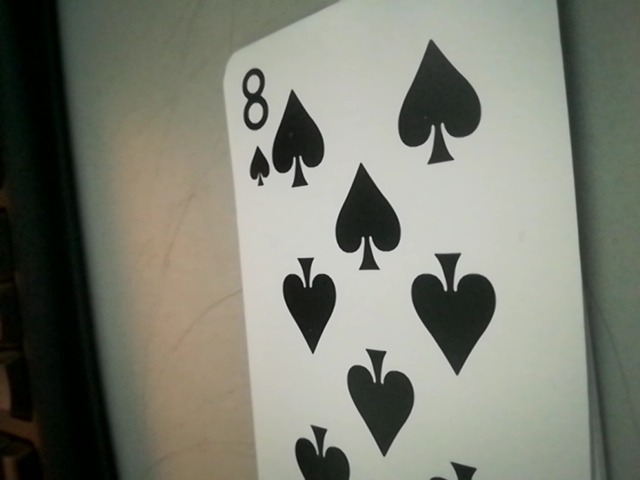ht 8: (235, 57, 293, 193)
